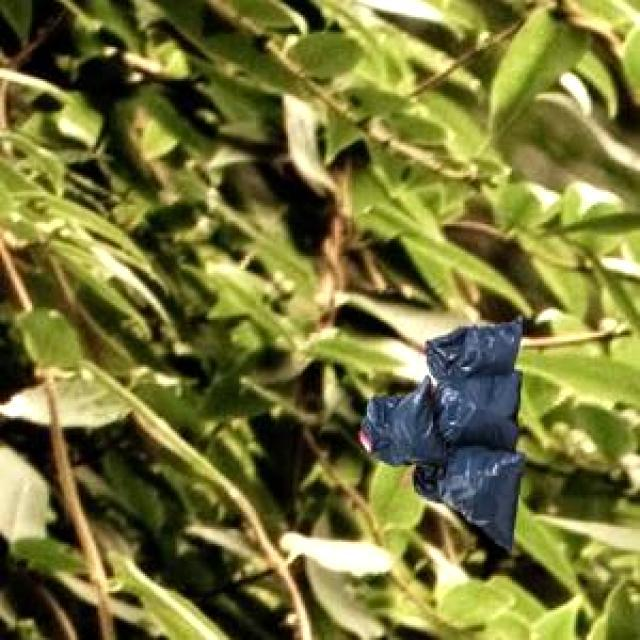Garbage_Bag: (357, 312, 522, 548)
